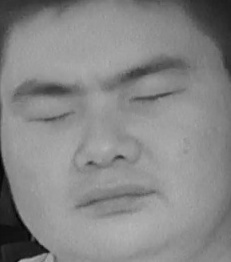blink: (131, 81, 179, 115), (30, 101, 75, 135)
mouth: (74, 175, 158, 219)
